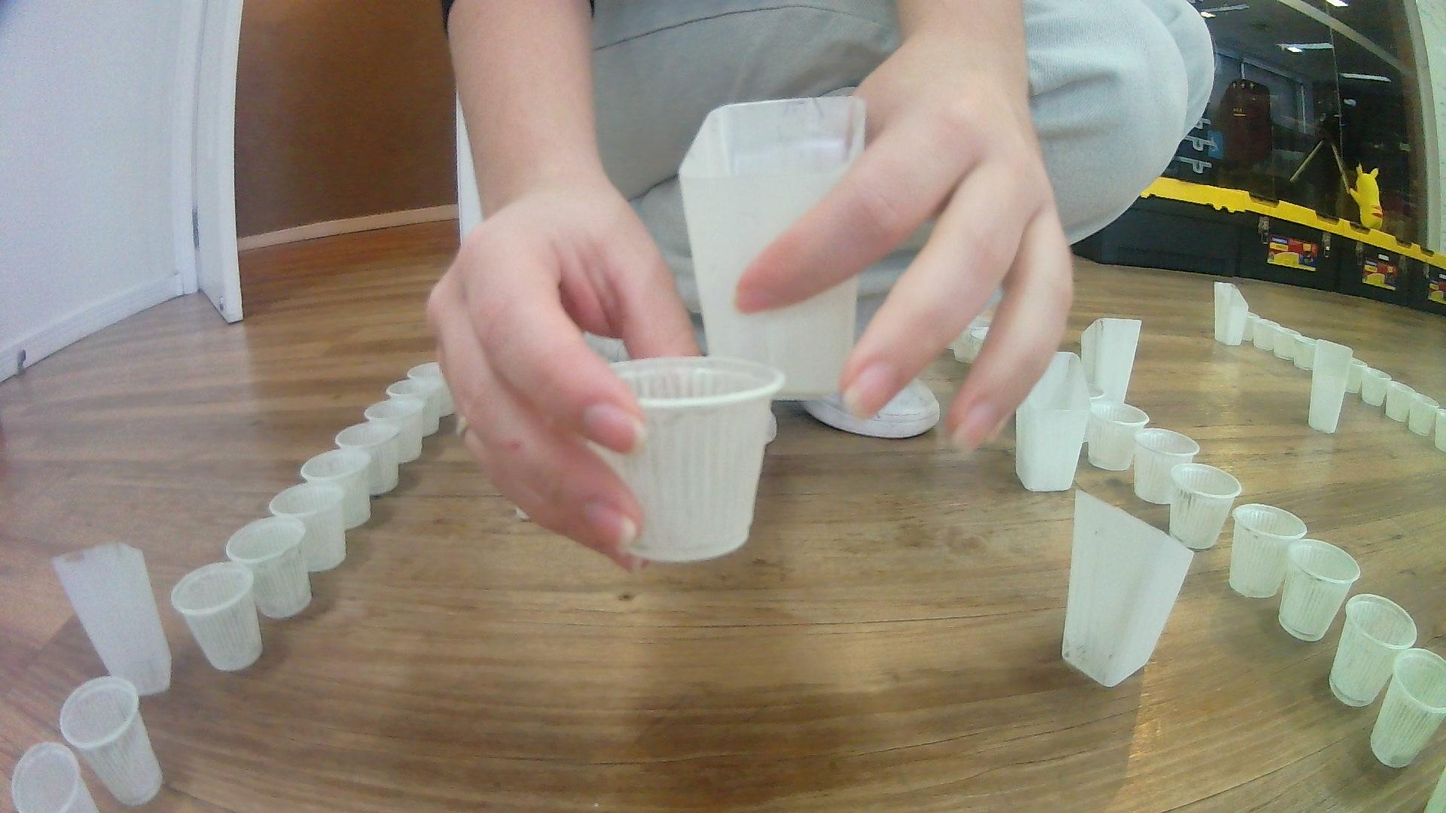erva_daninha: (681, 95, 866, 403), (1060, 489, 1197, 690), (49, 541, 173, 698), (1013, 351, 1093, 493), (1080, 317, 1143, 410), (1308, 340, 1355, 434), (1213, 282, 1249, 346)
planta: (570, 353, 788, 567), (57, 677, 165, 805), (1327, 592, 1418, 708), (170, 562, 264, 674), (1369, 647, 1446, 769), (224, 515, 313, 620), (1278, 539, 1362, 642), (1228, 503, 1310, 598), (267, 484, 349, 574), (1167, 461, 1243, 552), (11, 741, 107, 813), (299, 450, 376, 531), (1131, 428, 1202, 507), (334, 422, 401, 495), (1084, 403, 1150, 472), (363, 400, 425, 464), (384, 379, 443, 437), (406, 361, 453, 417), (946, 324, 986, 364), (1385, 382, 1417, 423), (1408, 394, 1439, 435), (1243, 312, 1275, 350), (1361, 368, 1392, 406), (1271, 324, 1298, 361), (1291, 334, 1316, 371), (1344, 358, 1366, 394), (1433, 408, 1446, 453)
